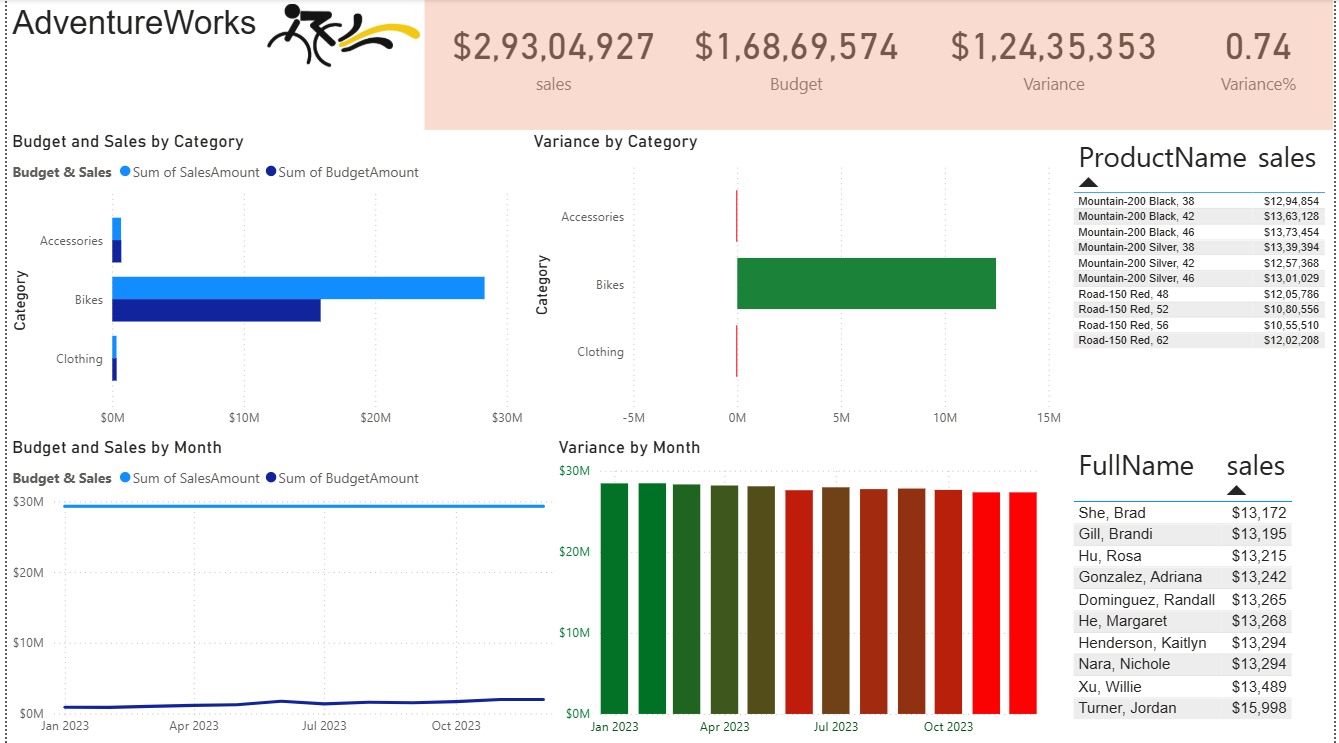

This screenshot's page, from the dashboard's own definition file:
{"tool":"powerbi","page":{"name":"Page 2","canvas":[1280,720],"ordinal":1},"visuals":[{"type":"textbox","box":[0,0,307.6,76],"z":1000},{"type":"image","box":[217.9,0,207.8,72.1],"z":2000},{"type":"card","fields":{"Values":["Sales.sales"]},"box":[402.5,0,249.6,106.8],"z":3000},{"type":"card","fields":{"Values":["Budget.Budget"]},"box":[639.1,0,245.3,106.8],"z":4000},{"type":"card","fields":{"Values":["Budget.Variance"]},"box":[884.4,0,252.5,106.8],"z":5000},{"type":"card","fields":{"Values":["Budget.Variance%"]},"box":[1136.9,0,142.8,106.8],"z":6000},{"type":"clusteredBarChart","title":"Budget and Sales by Category","fields":{"Category":["Product.Category","Product.SubCategory"],"Y":["Sales.SalesAmount","Budget.BudgetAmount"]},"box":[0,127,503.5,295.8],"z":7000},{"type":"clusteredBarChart","title":"Variance by Category","fields":{"Category":["Product.Category","Product.SubCategory"],"Y":["Budget.Variance"]},"box":[503.5,127,519.4,295.8],"z":8000},{"type":"lineChart","title":"Budget and Sales by Month","fields":{"Y":["Sales.SalesAmount","Budget.BudgetAmount"],"Category":["Budget.Month"]},"box":[0,422.7,546.8,297.2],"z":9000},{"type":"clusteredColumnChart","title":"Variance by Month","fields":{"Category":["Budget.Month"],"Y":["Budget.Variance"]},"box":[527.2,422.3,483.8,298],"z":10000},{"type":"tableEx","fields":{"Values":["Product.ProductName","Sales.sales"]},"box":[1022.9,127,256.8,295.8],"z":11000},{"type":"tableEx","fields":{"Values":["Customer.FullName","Sales.sales"]},"box":[1022.9,424.2,256.8,295.8],"z":12000},{"type":"shape","box":[402.9,0,877.1,126.7],"z":13500}]}

Visuals, with their boxes in screenshot pixels (x1, y1, x2, y2), scaled from the page's 1280x720 canvas onto the 1339x743 screenshot:
textbox: [0, 0, 322, 78]
image: [228, 0, 445, 74]
card - Sales.sales: [421, 0, 682, 110]
card - Budget.Budget: [669, 0, 925, 110]
card - Budget.Variance: [925, 0, 1189, 110]
card - Budget.Variance%: [1189, 0, 1338, 110]
"Budget and Sales by Category" clusteredBarChart: [0, 131, 527, 436]
"Variance by Category" clusteredBarChart: [527, 131, 1070, 436]
"Budget and Sales by Month" lineChart: [0, 436, 572, 742]
"Variance by Month" clusteredColumnChart: [552, 436, 1058, 742]
tableEx - Product.ProductName x Sales.sales: [1070, 131, 1338, 436]
tableEx - Customer.FullName x Sales.sales: [1070, 438, 1338, 742]
shape: [421, 0, 1338, 131]
